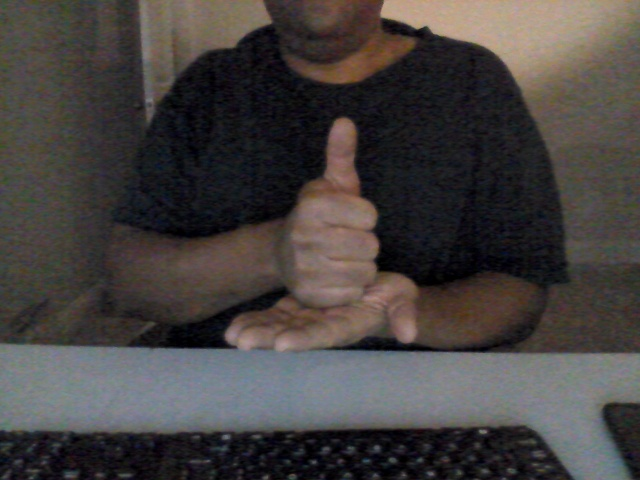help: (220, 117, 432, 367)
